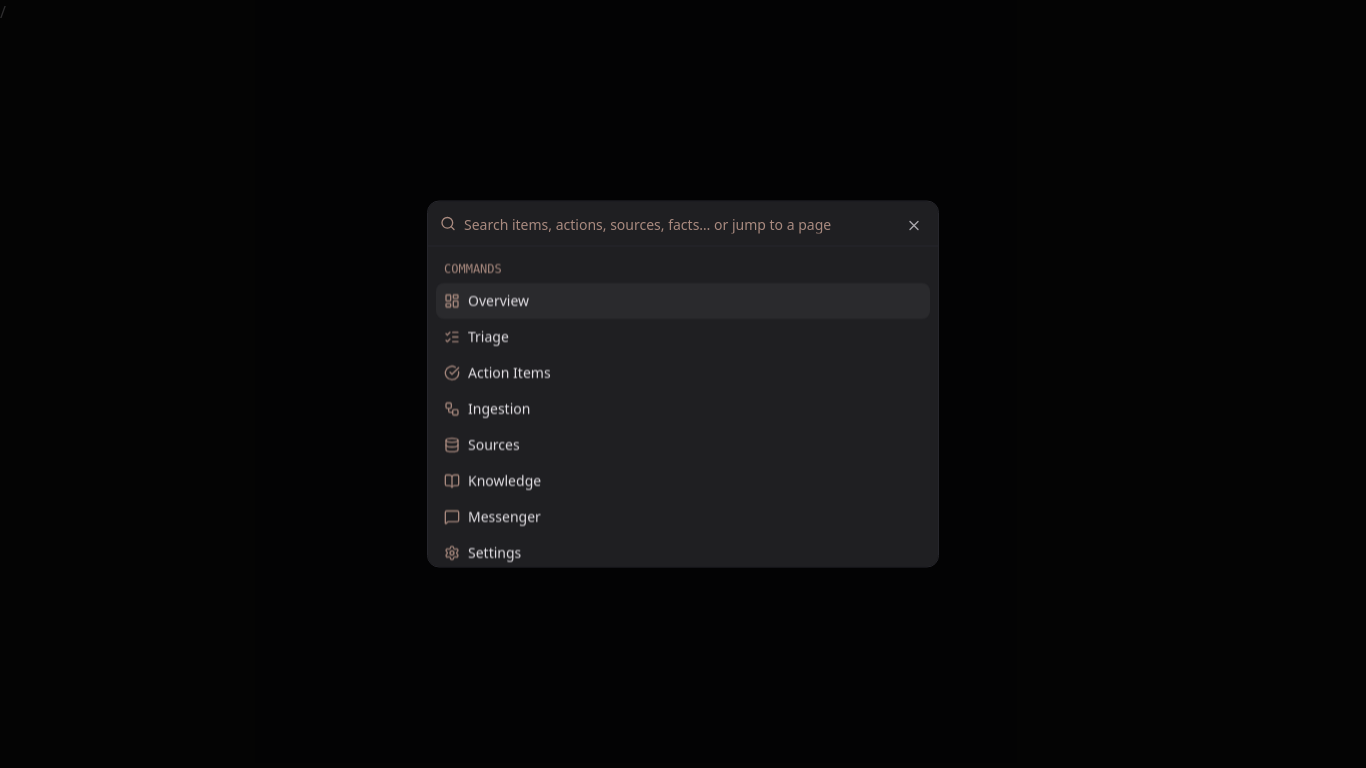
Test: CommandPalette › omits the Facts section when the group is absent (degraded)
The image size is (1366, 768).
In the dropdown: (695, 224) [464, 202, 926, 246], type "rds"
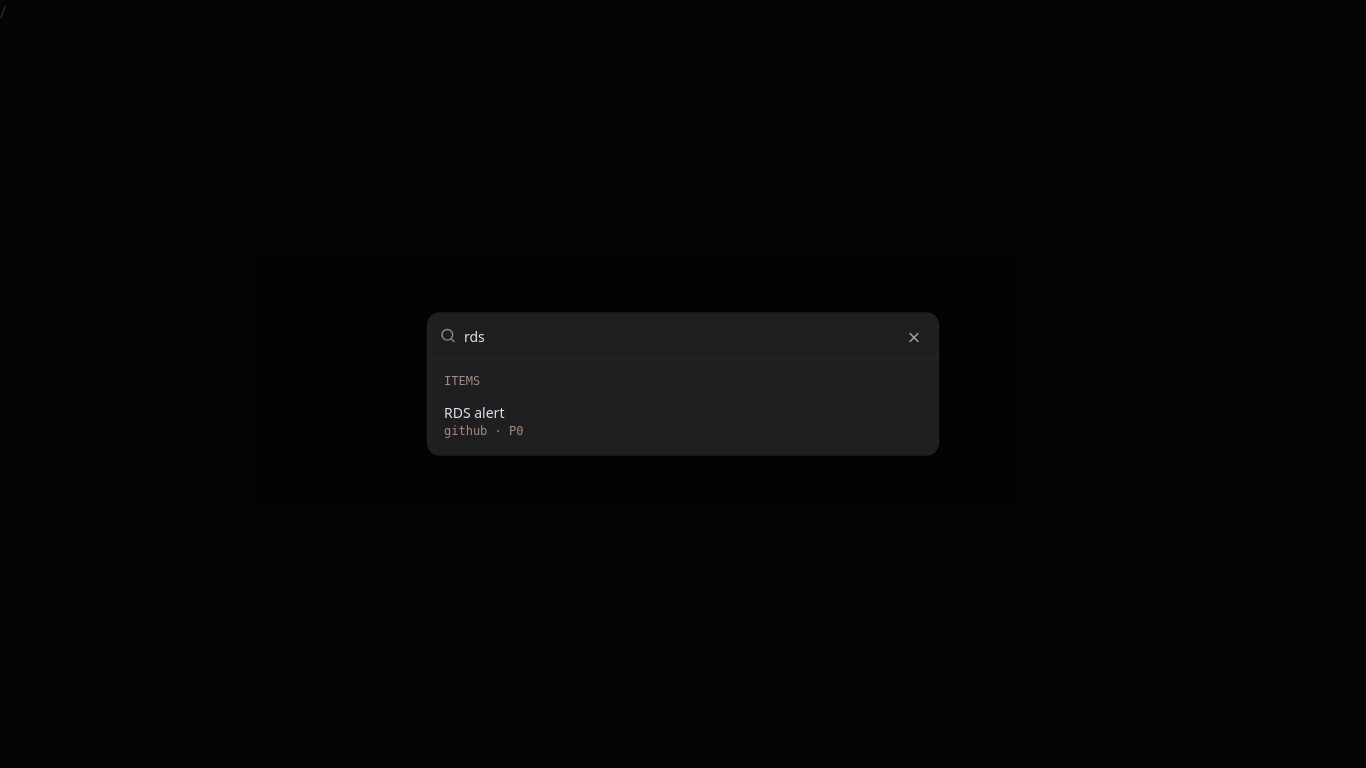
Result: the text "RDS alert" is shown at [444, 402, 504, 422]
